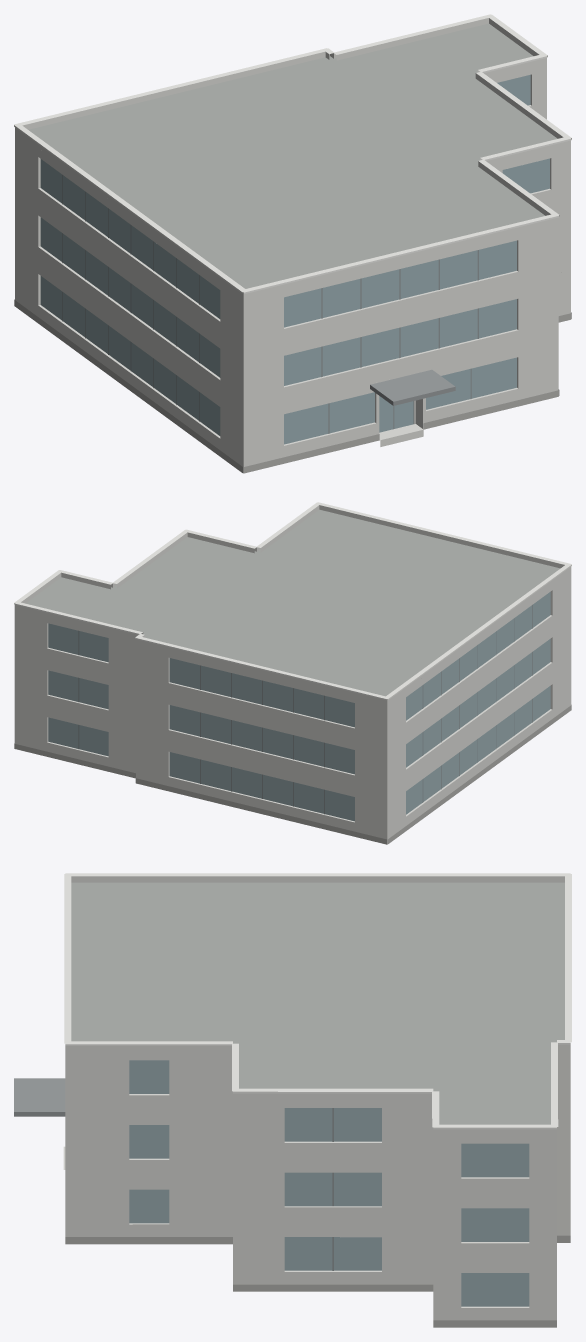
3 views of the same model, one above another, from view 1: azimuth 30°, elevation 25°; view 2: azimuth 150°, elevation 25°; view 3: azimuth 270°, elevation 25° (orthographic). The views are drawn at different scales.
Visible parts, largest first — view 1: b115951763__roof, b115951763__wall, b115951763__glass, b115951763__trim, b115951763__parapet, b115951763__base, b115951763__canopy, b115951763__frame, b115951763__entranceThreshold_0; view 2: b115951763__roof, b115951763__wall, b115951763__glass, b115951763__trim, b115951763__parapet, b115951763__base, b115951763__frame; view 3: b115951763__roof, b115951763__wall, b115951763__glass, b115951763__trim, b115951763__parapet, b115951763__base, b115951763__canopy.
Boxes of the visible parts, left/top/right/bottom form: b115951763__roof: left=28, top=23, right=557, bottom=473; b115951763__wall: left=15, top=61, right=570, bottom=473; b115951763__glass: left=40, top=74, right=549, bottom=444; b115951763__trim: left=14, top=14, right=571, bottom=293; b115951763__parapet: left=15, top=18, right=570, bottom=297; b115951763__base: left=14, top=299, right=571, bottom=473; b115951763__canopy: left=370, top=369, right=455, bottom=405; b115951763__frame: left=62, top=175, right=478, bottom=433; b115951763__entranceThreshold_0: left=379, top=424, right=423, bottom=446; b115951763__roof: left=25, top=509, right=560, bottom=844; b115951763__wall: left=14, top=569, right=571, bottom=844; b115951763__glass: left=48, top=592, right=550, bottom=821; b115951763__trim: left=14, top=502, right=571, bottom=700; b115951763__parapet: left=14, top=505, right=571, bottom=703; b115951763__base: left=14, top=705, right=571, bottom=844; b115951763__frame: left=78, top=604, right=532, bottom=814; b115951763__roof: left=71, top=882, right=564, bottom=1124; b115951763__wall: left=65, top=1048, right=570, bottom=1320; b115951763__glass: left=129, top=1060, right=529, bottom=1306; b115951763__trim: left=64, top=873, right=571, bottom=1129; b115951763__parapet: left=65, top=876, right=570, bottom=1133; b115951763__base: left=65, top=1235, right=570, bottom=1327; b115951763__canopy: left=14, top=1078, right=65, bottom=1116.
Size of the model in its own units: 30.39 by 11.55 by 28.18.
